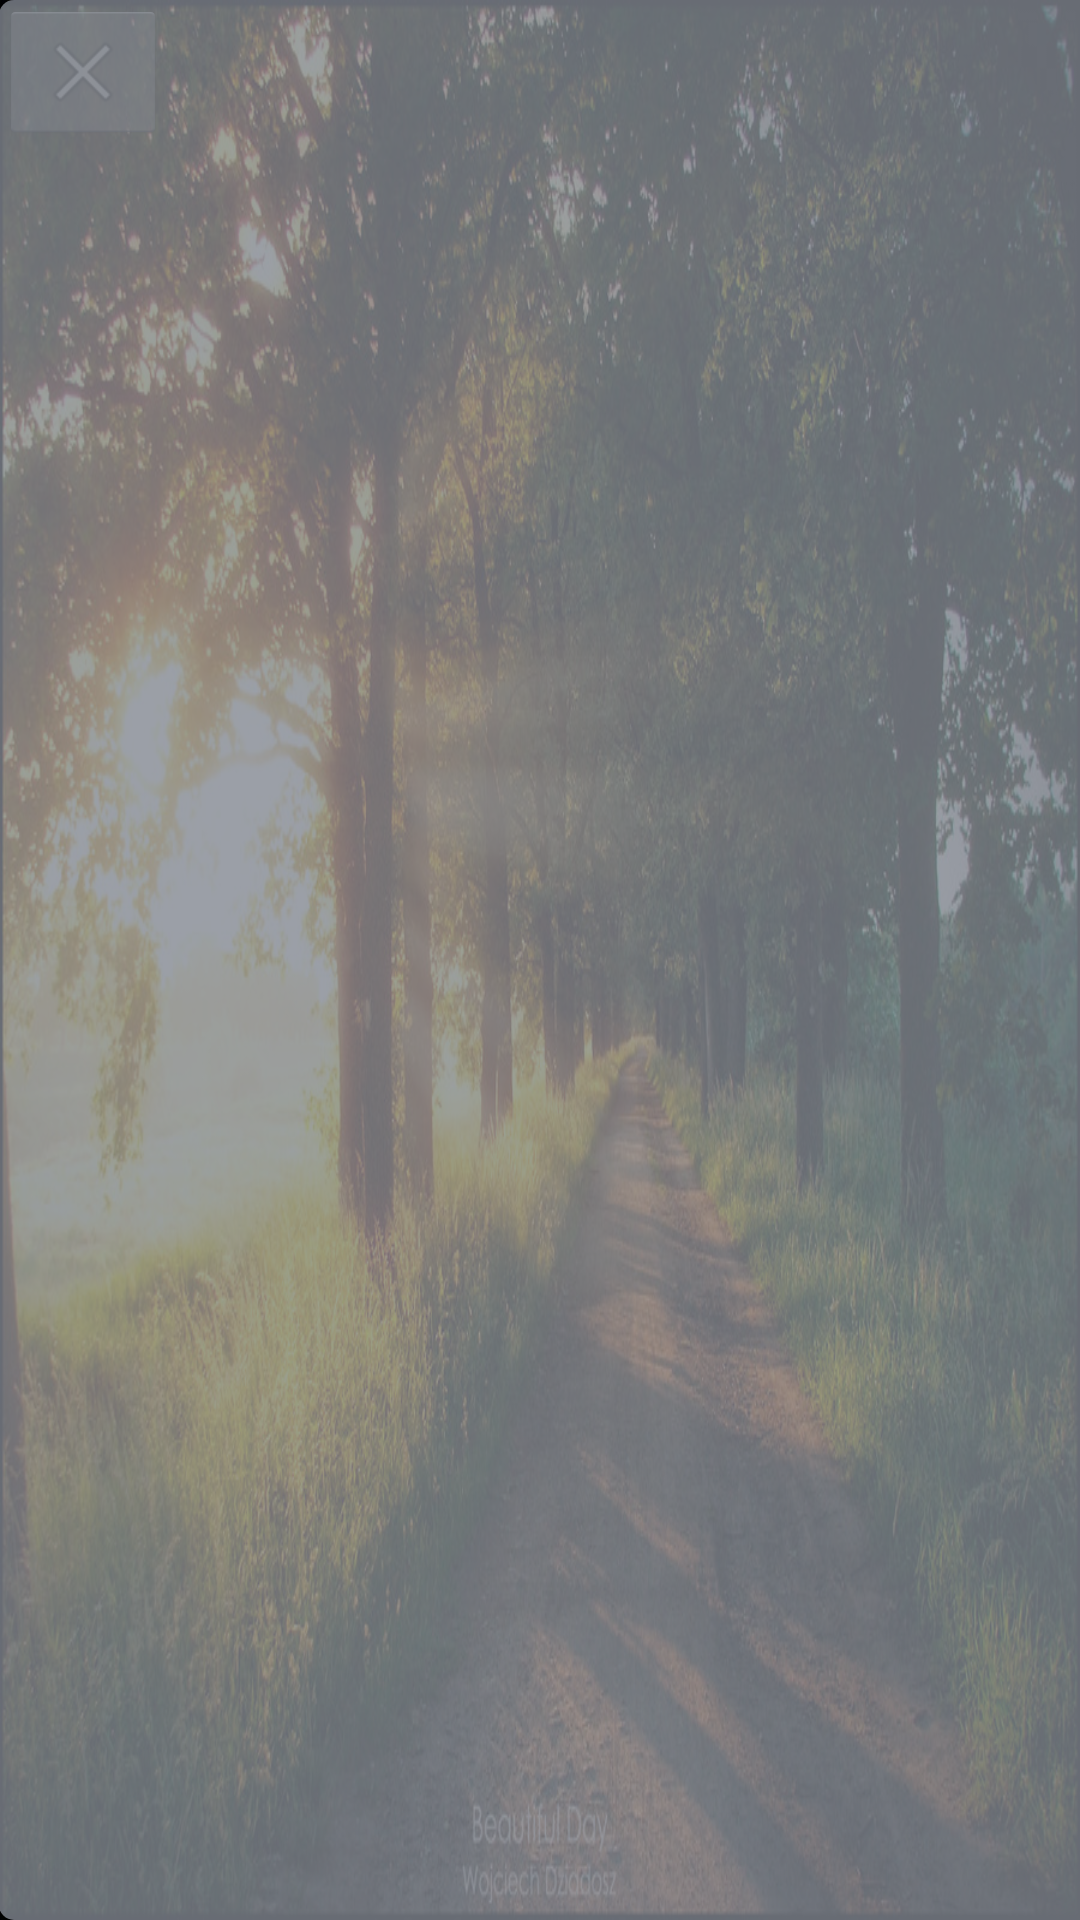

Named icons in this screenshot (1080px×1920px) and their bounding boxes, BBox(x1, y1, x2, y2):
close clear cancel: BBox(0, 0, 167, 144)
